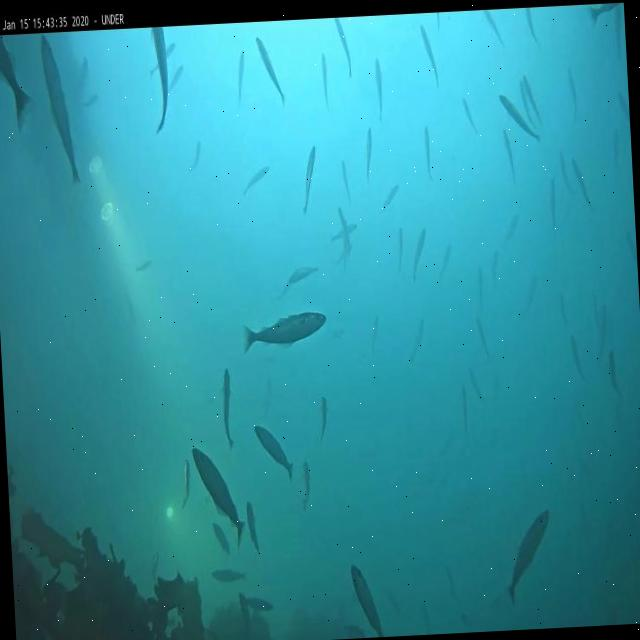fish: (42, 34, 78, 186), (193, 447, 245, 548), (504, 511, 556, 602), (244, 310, 330, 354), (0, 35, 34, 136), (350, 564, 384, 636), (255, 36, 288, 106), (254, 424, 294, 480), (152, 29, 172, 134), (500, 92, 541, 143), (591, 303, 611, 372), (420, 24, 440, 90), (300, 150, 320, 212), (336, 17, 354, 78), (572, 158, 592, 210), (411, 230, 429, 282), (280, 267, 319, 291), (222, 368, 234, 444), (468, 362, 488, 407), (520, 82, 538, 129), (524, 80, 544, 122), (150, 44, 177, 75), (571, 338, 588, 387), (243, 164, 272, 192), (374, 58, 386, 125), (589, 1, 621, 26), (246, 500, 260, 555), (213, 520, 234, 556), (409, 317, 426, 361), (484, 10, 504, 46), (548, 177, 560, 235), (522, 272, 539, 312), (608, 349, 622, 397), (338, 208, 352, 255), (568, 70, 580, 124), (502, 214, 522, 246), (525, 8, 540, 50), (502, 130, 515, 178), (363, 129, 374, 185), (180, 457, 192, 508), (212, 566, 246, 584), (302, 464, 314, 512), (462, 95, 476, 134), (238, 592, 252, 630), (318, 394, 330, 437), (332, 224, 360, 242), (558, 151, 570, 193), (188, 140, 204, 171), (382, 185, 401, 211), (167, 63, 184, 92), (439, 248, 454, 280), (560, 292, 573, 328), (478, 314, 490, 352), (424, 126, 432, 180), (488, 254, 502, 284), (342, 162, 352, 204), (239, 54, 247, 105), (245, 596, 273, 610), (616, 8, 624, 56), (462, 383, 469, 435), (370, 314, 380, 350), (322, 56, 329, 107), (477, 268, 484, 314), (396, 230, 404, 270), (612, 130, 620, 166), (150, 552, 160, 578), (83, 92, 98, 109), (137, 258, 152, 274), (343, 235, 350, 269)
